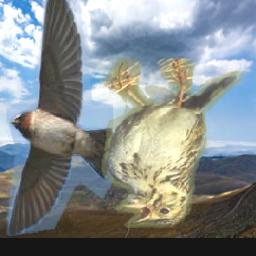Sparrow: (102, 58, 245, 228)
Swallow: (7, 0, 114, 236)
